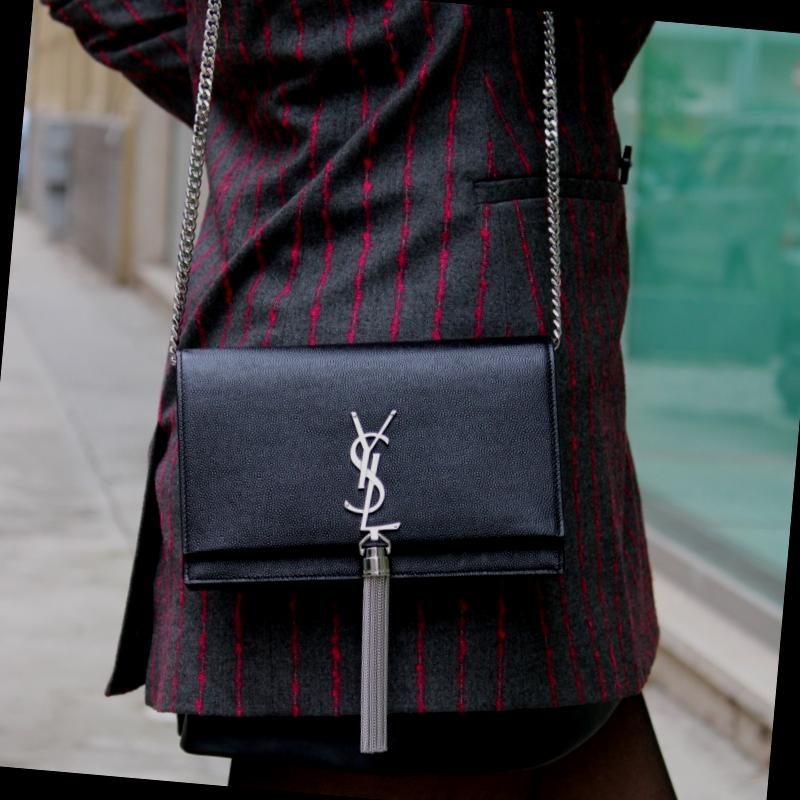YVES-SAINT-LAURENT: (341, 406, 410, 534)
